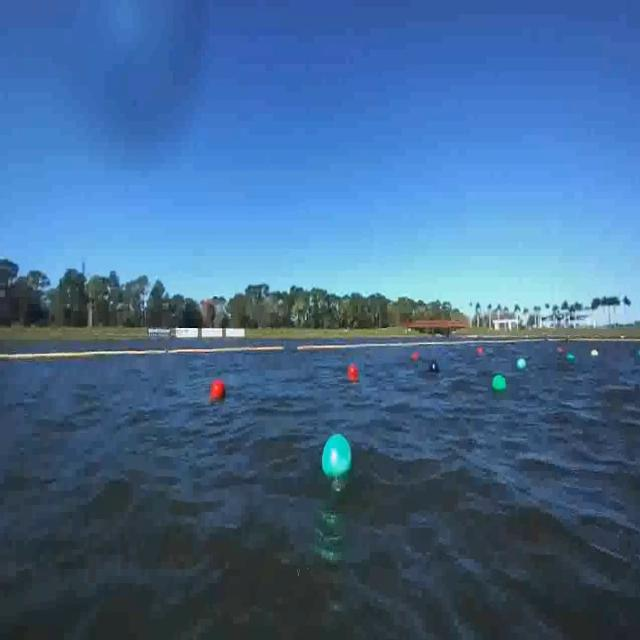green-buoy: (320, 429, 356, 483)
red-buoy: (211, 377, 228, 401)
